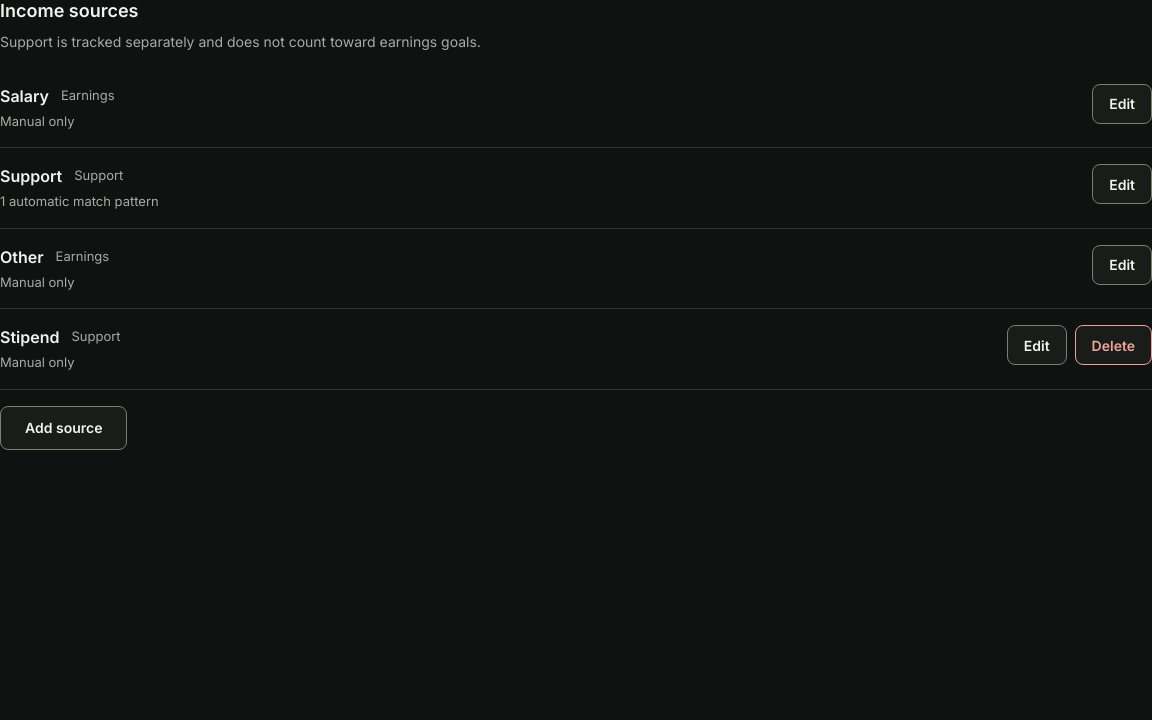
Test: IncomeSourcesBlock › uses one editor body and action frame with described interpretation choices
The image size is (1152, 720).
expect the button "Add source" is shown: met, box [0,406,128,450]
Step 1. Click the button with aria-label "Edit Stipend" → coordinates (1037, 345), box [1007,325,1067,365]
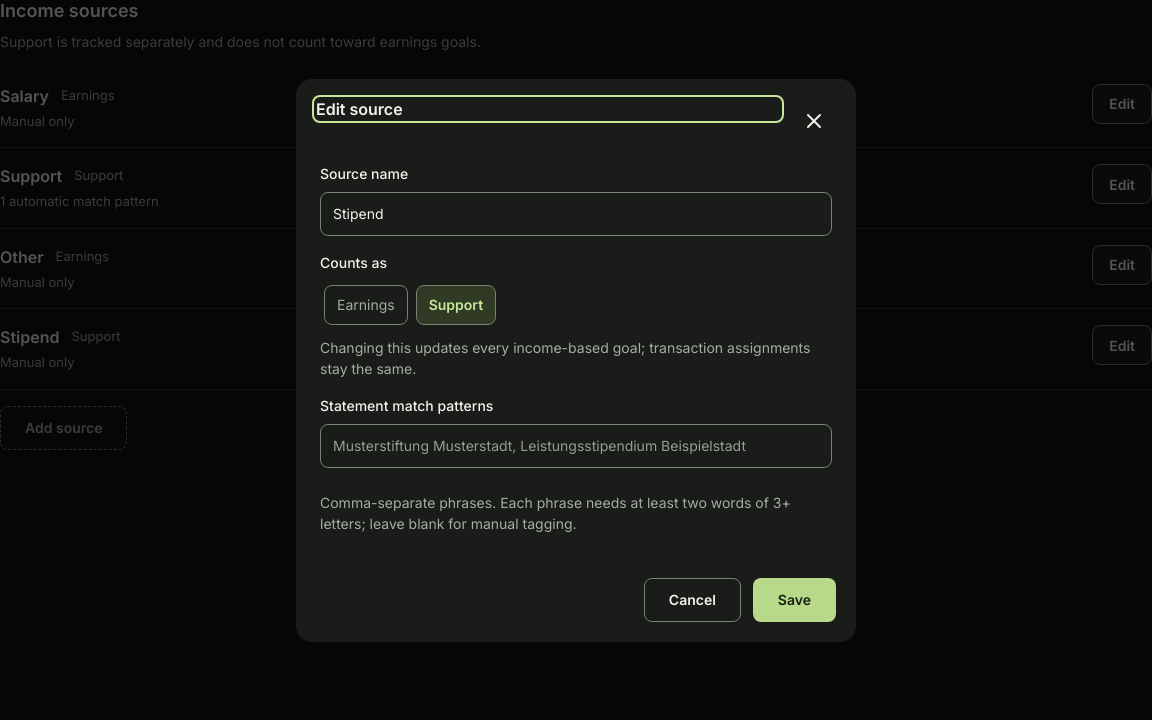
expect the element "Edit source" is shown: met, box [316,98,836,142]
expect the element "Save" is shown: met, box [644,578,836,622]
expect the element labelled "Source name" is shown: met, box [316,158,836,538]
